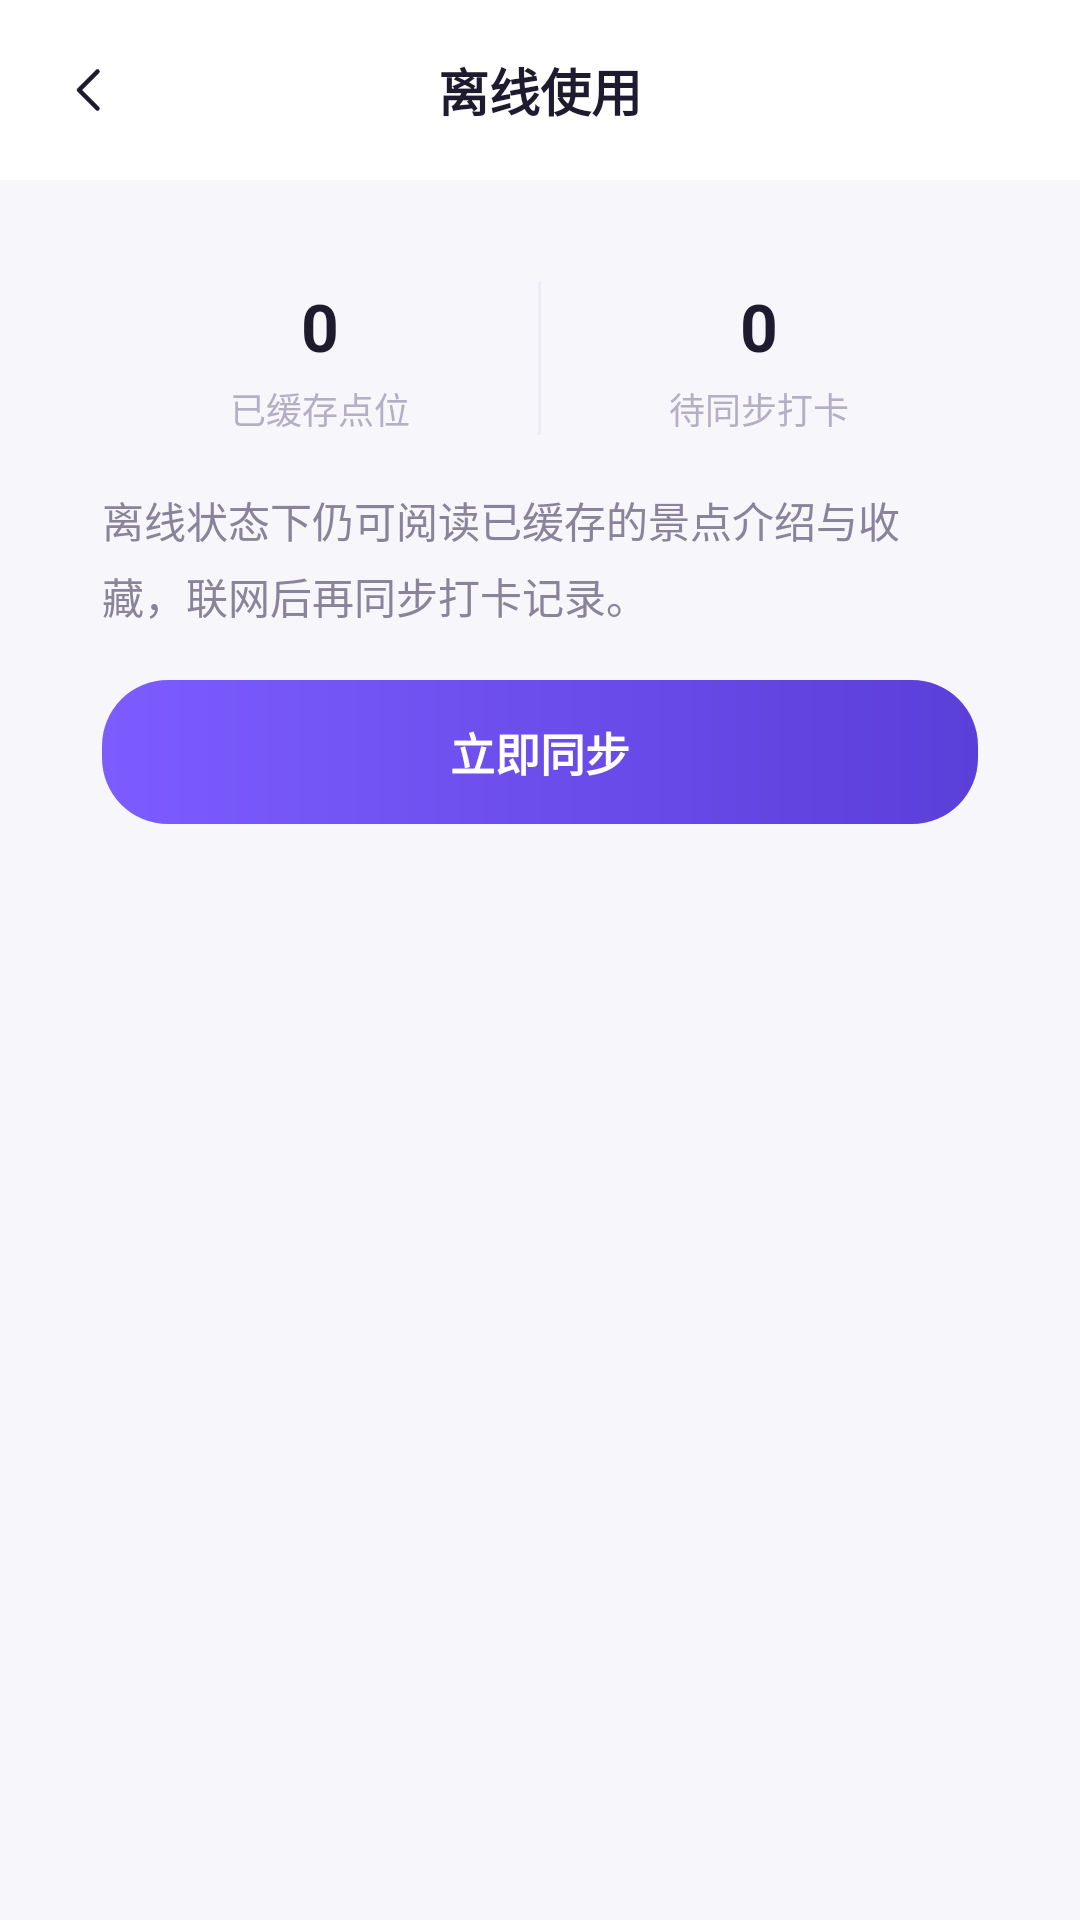

Icons on this 1080×1920 Android screen, each with its box as box(x1, y1, x2, y2):
返回: box(76, 69, 100, 111)
